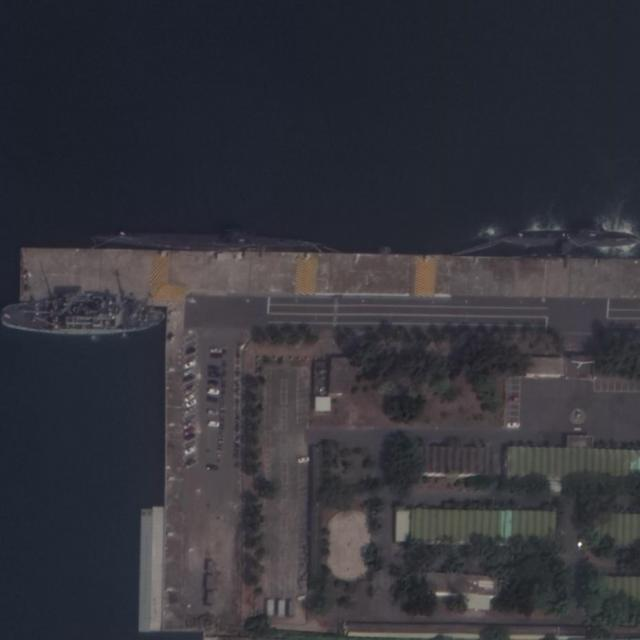Other Warship: (1, 299, 164, 335)
Submarine: (92, 228, 325, 248), (496, 231, 639, 244)
